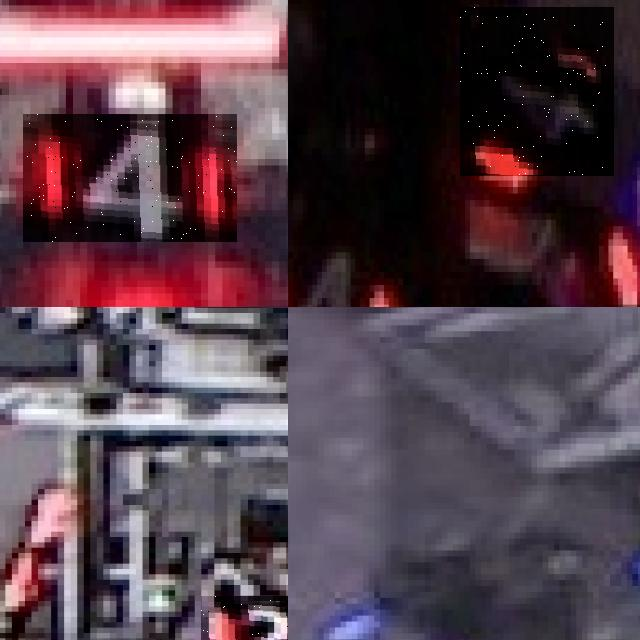B1: (329, 603, 458, 640)
R2: (201, 595, 288, 640)
R4: (23, 114, 237, 242), (460, 8, 614, 178), (577, 134, 640, 307), (288, 242, 393, 307)
